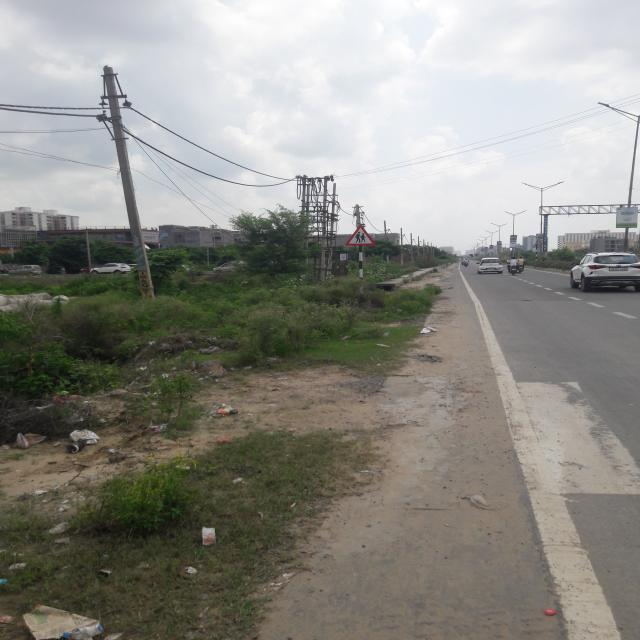school ahead: (347, 225, 378, 248)
